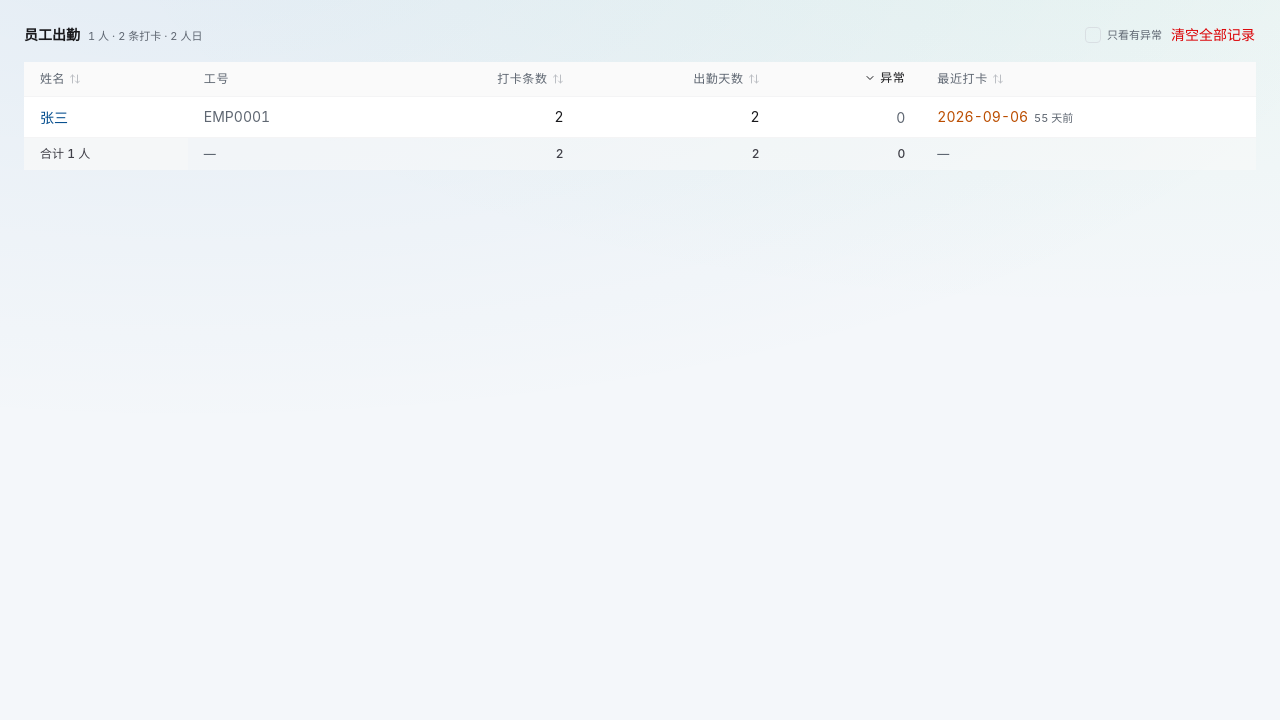
Test: 清空打卡记录的确认框 › 没筛选时不多嘴重复同一个数字
Click the button "清空全部记录".
click(1213, 35)  # box [1170,24,1256,46]
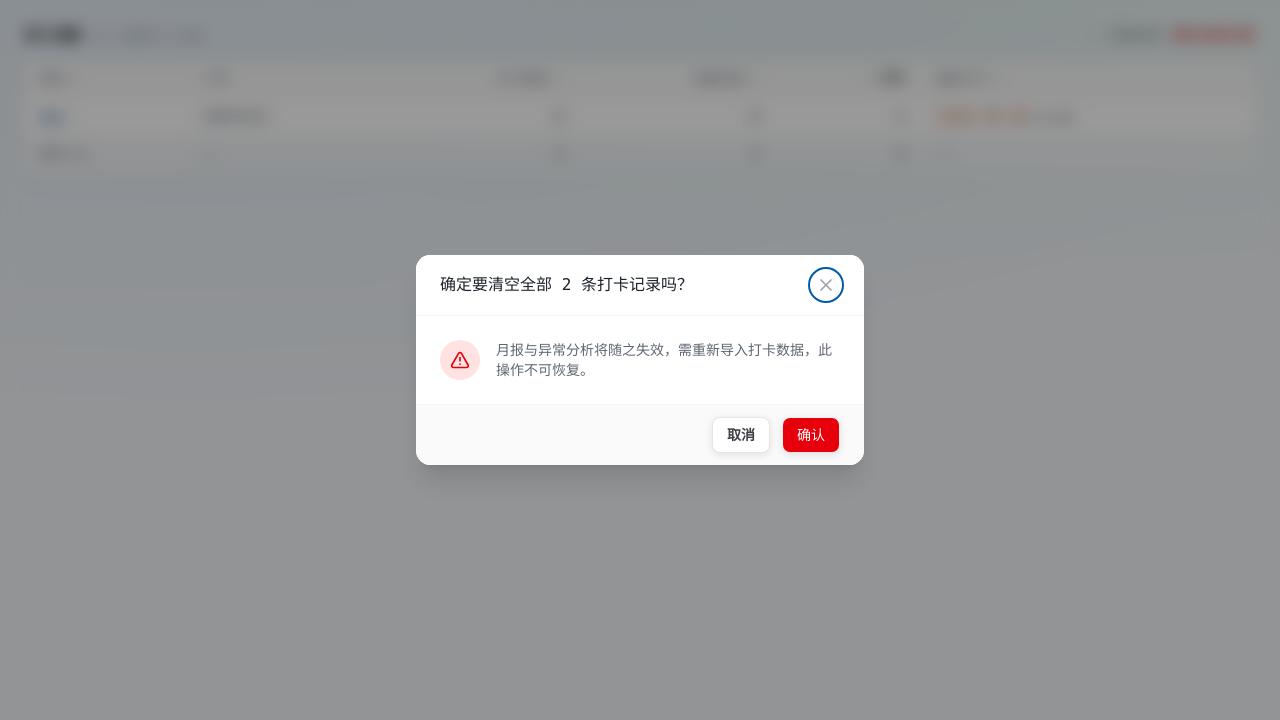
expect the heading "确定要清空全部 2 条打卡记录吗？" is shown: met, box [440,273,693,297]
